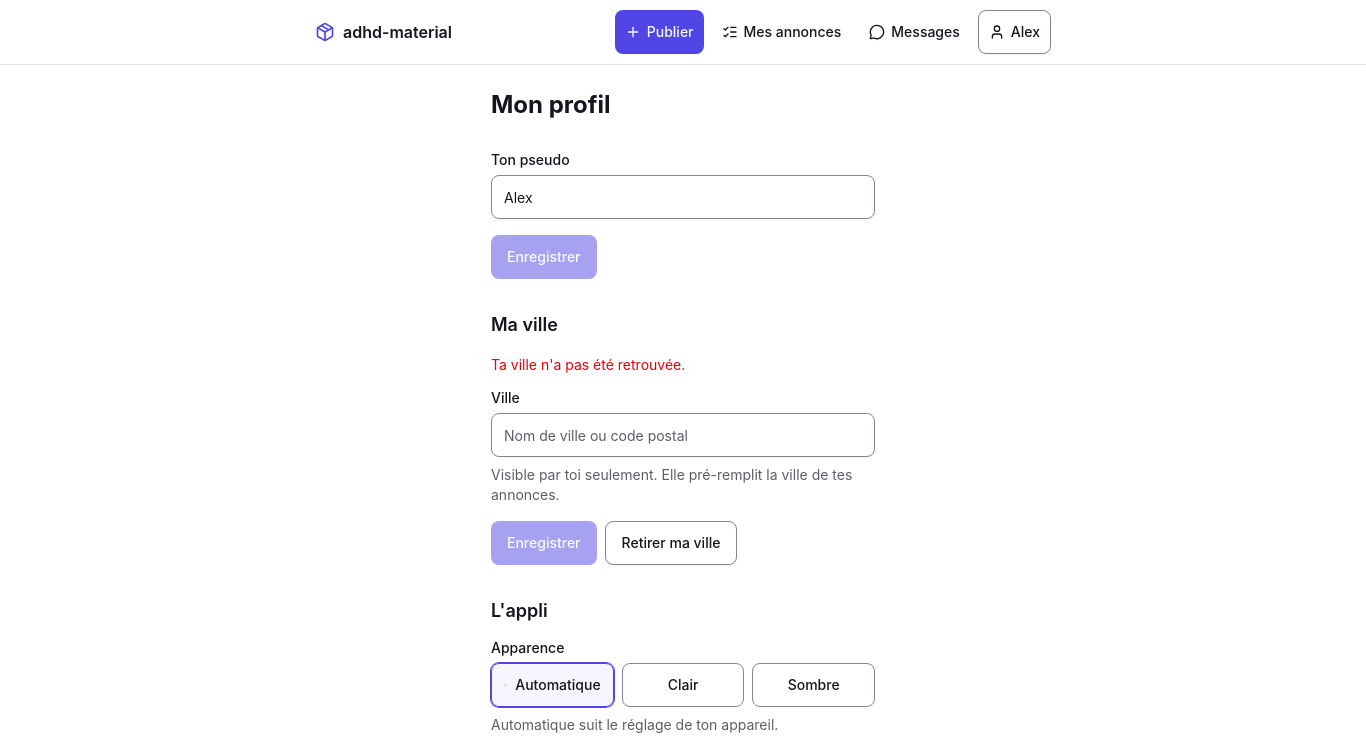
it: section « Ma ville » du profil › depuis « ville introuvable », retirer garde le focus dans le champ
The width and height of the screenshot is (1366, 752).
Click the button "Retirer ma ville". click: [671, 543]
box: [604,521,737,565]
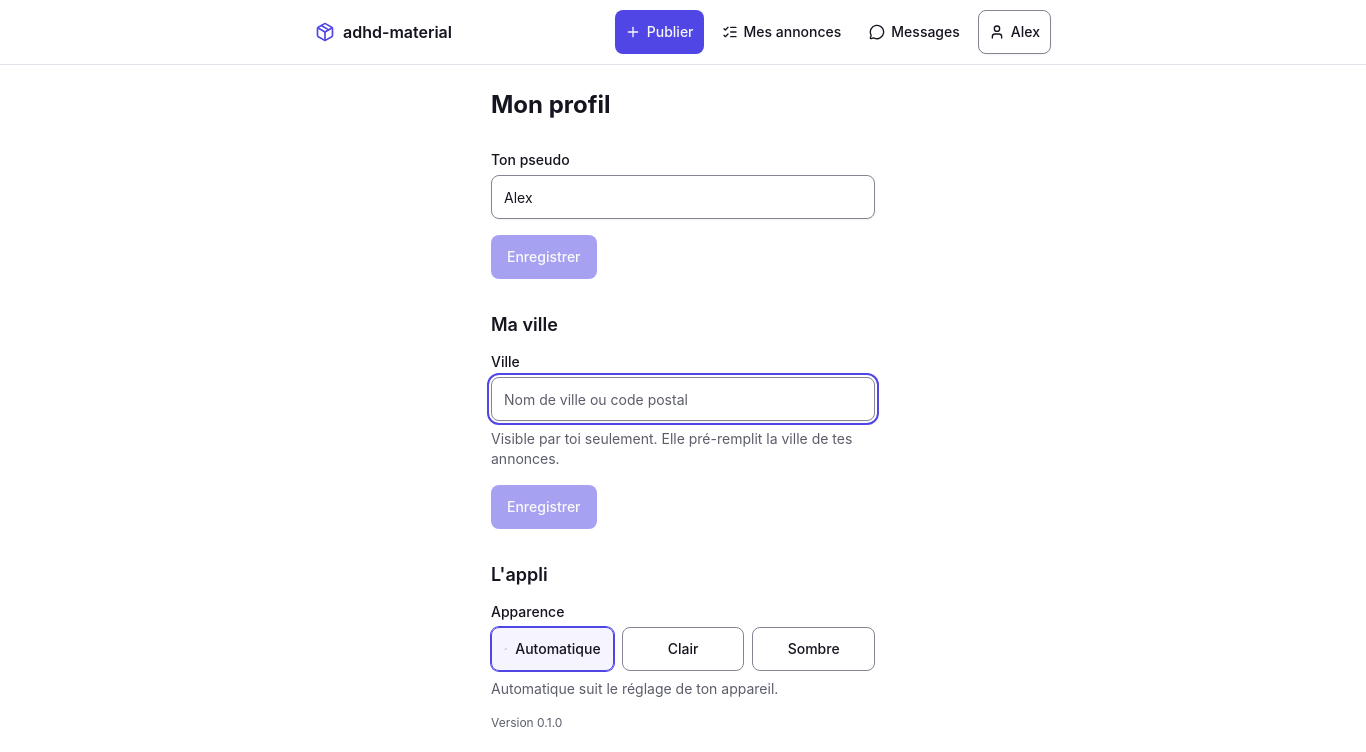
Expected: the button "Retirer ma ville" is gone
